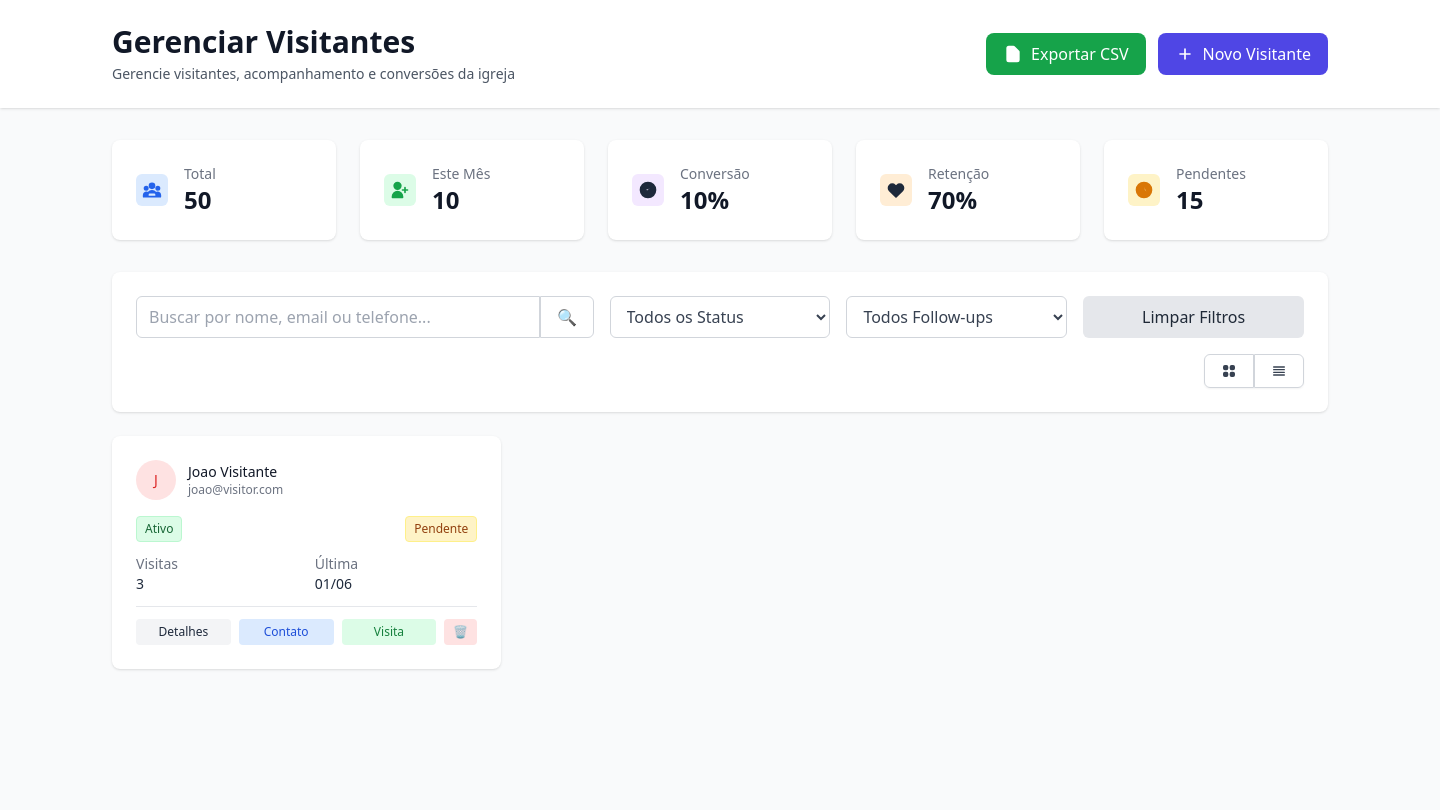
AdminVisitorsPage › Filtering › should clear all filters
Expected: the heading "Joao Visitante" is shown, x1=188 y1=462 x2=283 y2=482
Note: Set filters
Type "test" into the field with placeholder "Buscar por nome, email ou telefone..." at point(338, 317), box x1=136 y1=296 x2=540 y2=338
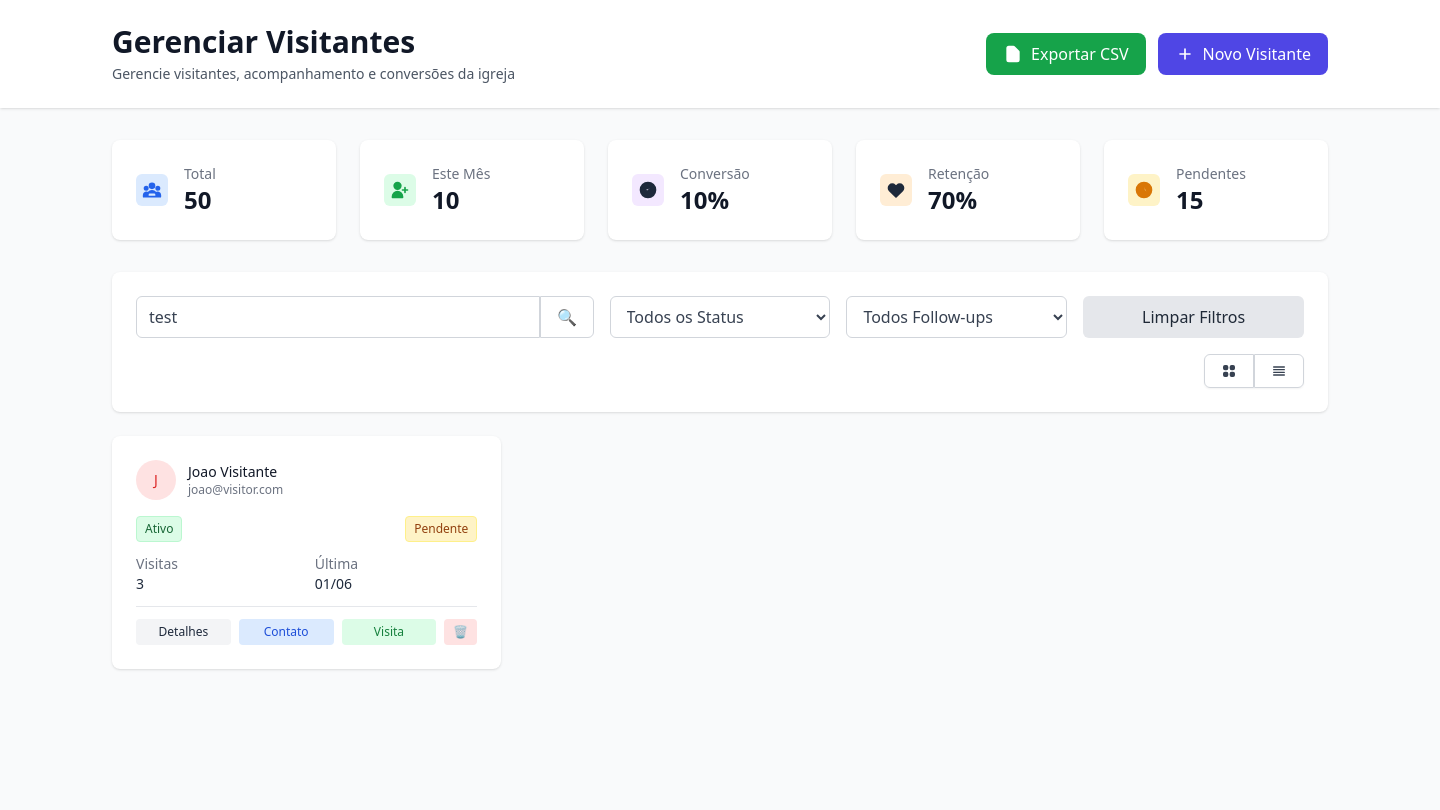
Select "Ativo" in the 1st dropdown showing "Todos os Status" at point(720, 317), box x1=610 y1=296 x2=830 y2=338
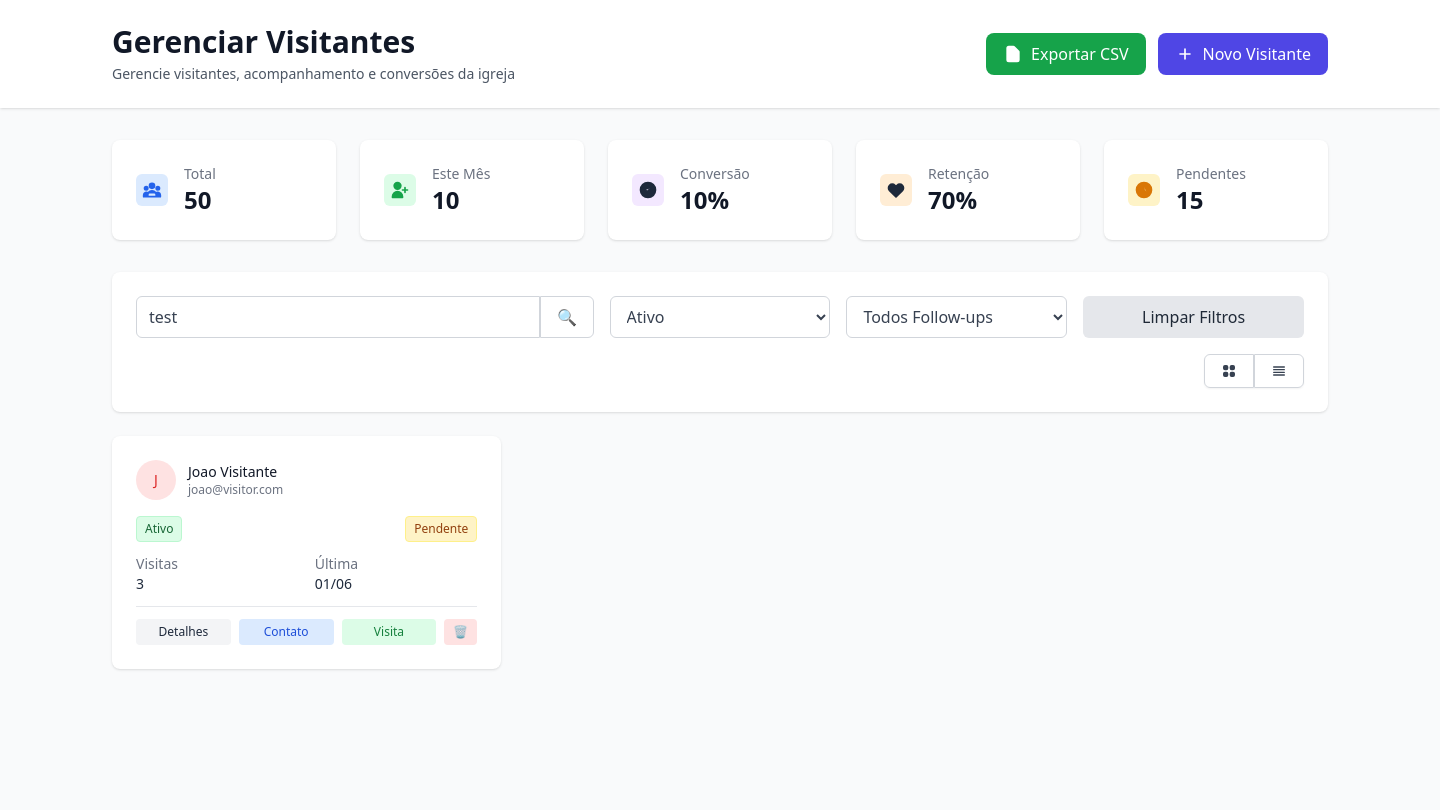
Note: Clear filters
Click the button "Limpar Filtros" at point(1194, 317), box x1=1083 y1=296 x2=1304 y2=338
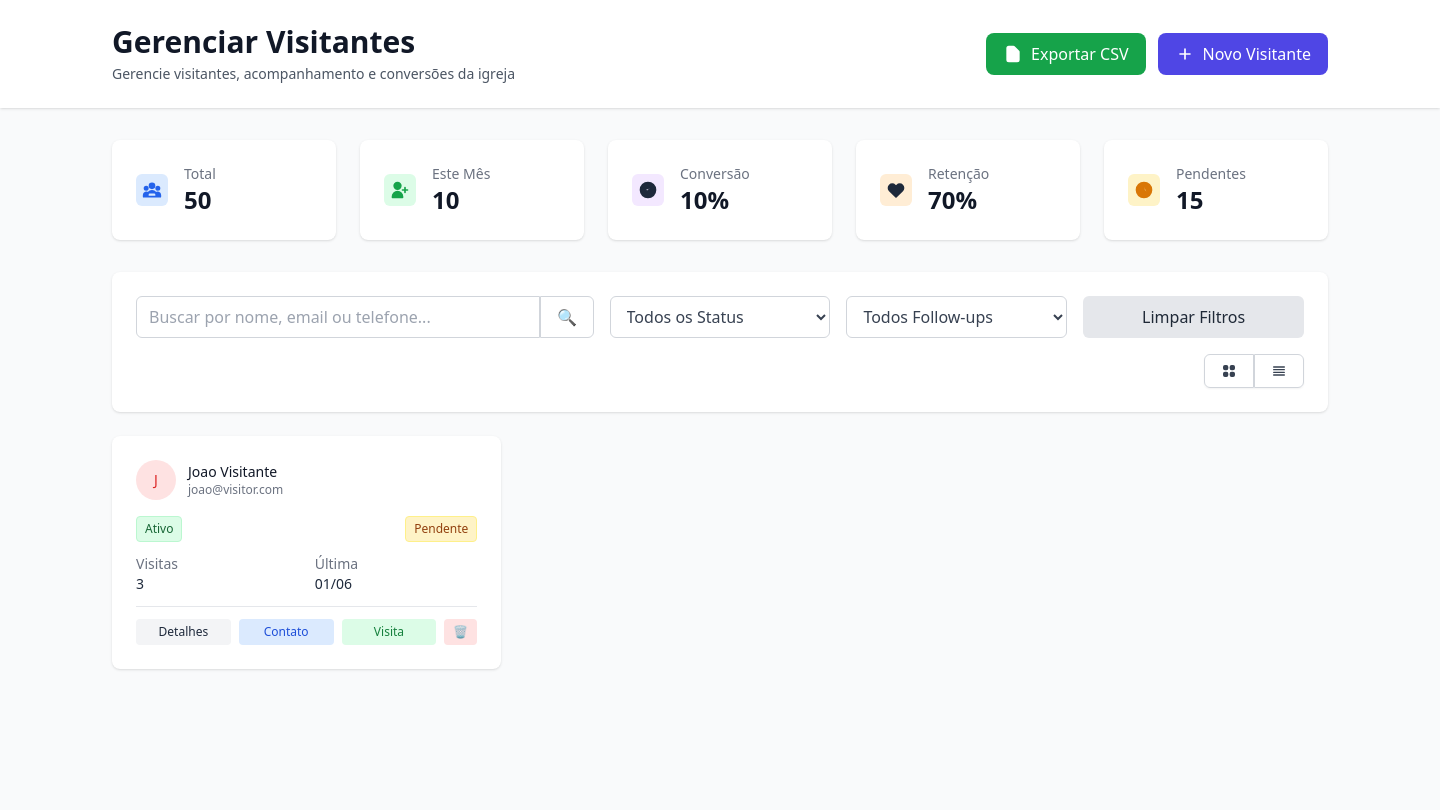
Expected: the field with placeholder "Buscar por nome, email ou telefone..." is empty, x1=136 y1=296 x2=540 y2=338
